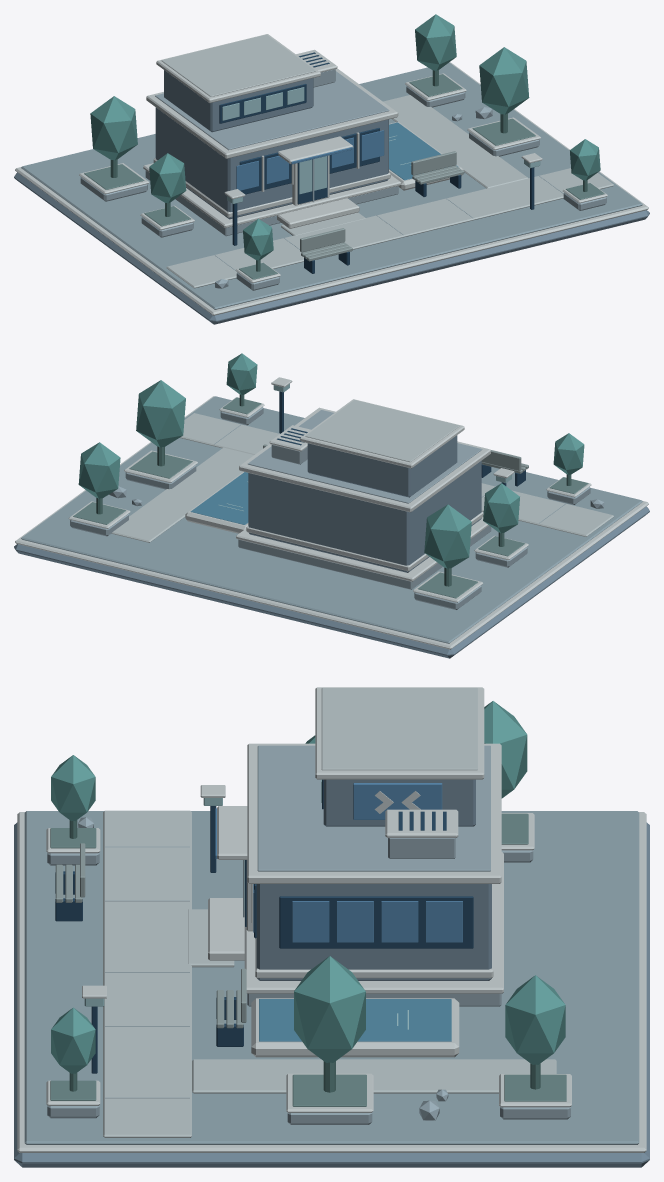
The model's file is campus_home_study_v01.glb.
The picture shows the model from 3 angles, top to bottom: view 1: azimuth 30°, elevation 25°; view 2: azimuth 150°, elevation 25°; view 3: azimuth 270°, elevation 25°; orthographic projection. The views are drawn at different scales.
Visible parts, largest first — view 1: Terrain, Lab, Garden; view 2: Terrain, Lab, Garden; view 3: Terrain, Lab, Garden.
Part boxes in pixels (x1,y1,x2,y2): Terrain: [14, 62, 649, 324]; Lab: [143, 34, 401, 236]; Garden: [79, 14, 607, 290]; Terrain: [14, 396, 649, 658]; Lab: [236, 399, 491, 589]; Garden: [68, 353, 604, 609]; Terrain: [14, 810, 649, 1167]; Lab: [208, 687, 503, 1006]; Garden: [46, 701, 571, 1124].
Size of the model in its own units: 19 by 5.65 by 15.
